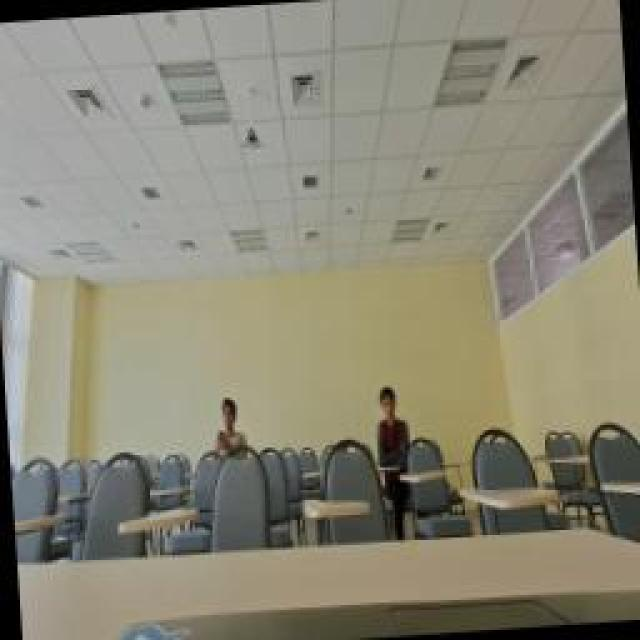phone: (210, 392, 248, 458)
study: (372, 385, 410, 467)
